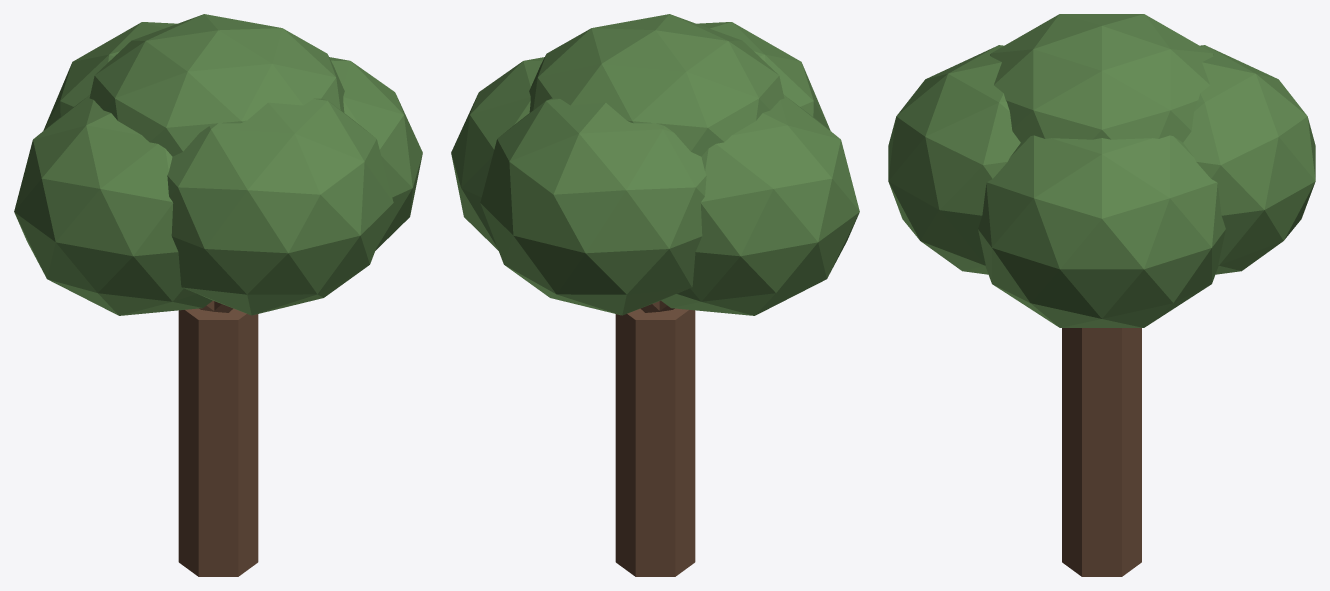
File: tree_a.glb
3 views of the same model, side by side, from view 1: azimuth 30°, elevation 25°; view 2: azimuth 150°, elevation 25°; view 3: azimuth 270°, elevation 25° (orthographic).
Parts seen in each view (by area): view 1: tree_a; view 2: tree_a; view 3: tree_a.
Part boxes in pixels (box(x1,y1,x2,y2)): tree_a: box(14, 14, 422, 576); tree_a: box(451, 14, 859, 576); tree_a: box(888, 14, 1315, 576).
Size of the model in its own units: 3.74 by 5.18 by 3.74.
